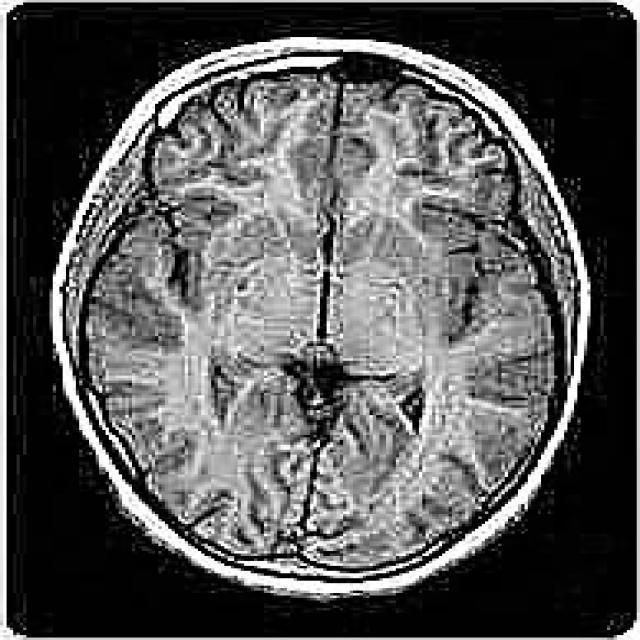notumor: (53, 37, 587, 598)
